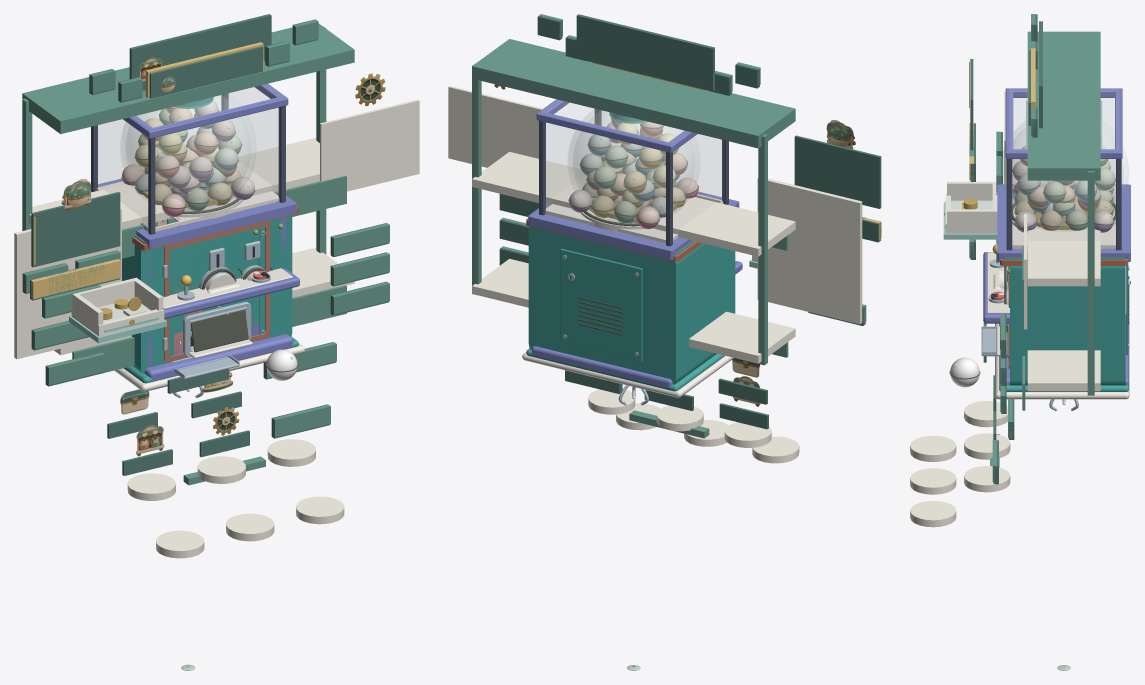
File: CapsuleJoy.unity.glb
3 renders of one model, left to right at view 1: azimuth 30°, elevation 25°; view 2: azimuth 150°, elevation 25°; view 3: azimuth 270°, elevation 25°, orthographic. The views are drawn at different scales.
Visible parts, largest first — view 1: CabinetShell_Batch0 (×3), CabinetShell_Batch2 (×2), Rack top, Enamel button (×8), Mechanism paper, Shelf (×2), CabinetShell_Batch1, Hint plaque, Collection nameplate (×3), Collection header, Settings plaque, Tool caption (×4) (+21 smaller); view 2: CabinetShell_Batch0 (×2), Rack top, Shelf (×2), Settings plaque, CabinetShell_Batch2 (×2), Collection header, CabinetShell_Batch1, Mechanism paper, Hint plaque, Rack left, Rack right, Tool caption (×2) (+6 smaller); view 3: CabinetShell_Batch0 (×2), Rack top, Shelf (×2), CabinetShell_Batch2, Side (×2), Rack right, CabinetShell_Batch1, Collection slot 4, Collection slot 3, Collection slot 5, Collection slot 2, Collection slot 1 (+10 smaller).
Part boxes in pixels (bbox=[...]): CabinetShell_Batch0 (×3): bbox=[90, 83, 304, 391]; CabinetShell_Batch2 (×2): bbox=[120, 94, 255, 210]; Rack top: bbox=[22, 23, 354, 134]; Enamel button (×8): bbox=[32, 223, 389, 437]; Mechanism paper: bbox=[320, 99, 419, 191]; Shelf (×2): bbox=[29, 137, 354, 355]; CabinetShell_Batch1: bbox=[98, 87, 278, 195]; Hint plaque: bbox=[31, 192, 120, 267]; Collection nameplate (×3): bbox=[72, 175, 346, 372]; Collection header: bbox=[129, 14, 271, 90]; Settings plaque: bbox=[14, 208, 121, 359]; Tool caption (×4): bbox=[107, 391, 249, 475]; CabinetShell_Batch0 (×2): bbox=[522, 99, 742, 397]; Rack top: bbox=[472, 39, 795, 148]; Shelf (×2): bbox=[472, 151, 795, 363]; Settings plaque: bbox=[757, 178, 862, 324]; CabinetShell_Batch2 (×2): bbox=[568, 109, 699, 222]; Collection header: bbox=[576, 14, 714, 91]; CabinetShell_Batch1: bbox=[546, 103, 721, 208]; Mechanism paper: bbox=[448, 86, 542, 167]; Hint plaque: bbox=[794, 135, 881, 208]; Rack left: bbox=[758, 134, 767, 365]; Rack right: bbox=[472, 63, 481, 294]; Tool caption (×2): bbox=[718, 378, 768, 429]; CabinetShell_Batch0 (×2): bbox=[983, 88, 1130, 399]; Rack top: bbox=[1027, 31, 1100, 180]; Shelf (×2): bbox=[1027, 226, 1100, 391]; CabinetShell_Batch2: bbox=[999, 121, 1128, 230]; Side (×2): bbox=[947, 181, 996, 232]; Rack right: bbox=[1087, 171, 1094, 395]; CabinetShell_Batch1: bbox=[1013, 98, 1115, 185]; Collection slot 4: bbox=[910, 468, 956, 494]; Collection slot 3: bbox=[910, 435, 956, 462]; Collection slot 5: bbox=[910, 500, 956, 527]; Collection slot 2: bbox=[964, 466, 1010, 492]; Collection slot 1: bbox=[964, 433, 1010, 459].
Size of what is drawn, in the model's own units: 1.19 by 1.77 by 0.5733.
75 materials, 47 textured.
